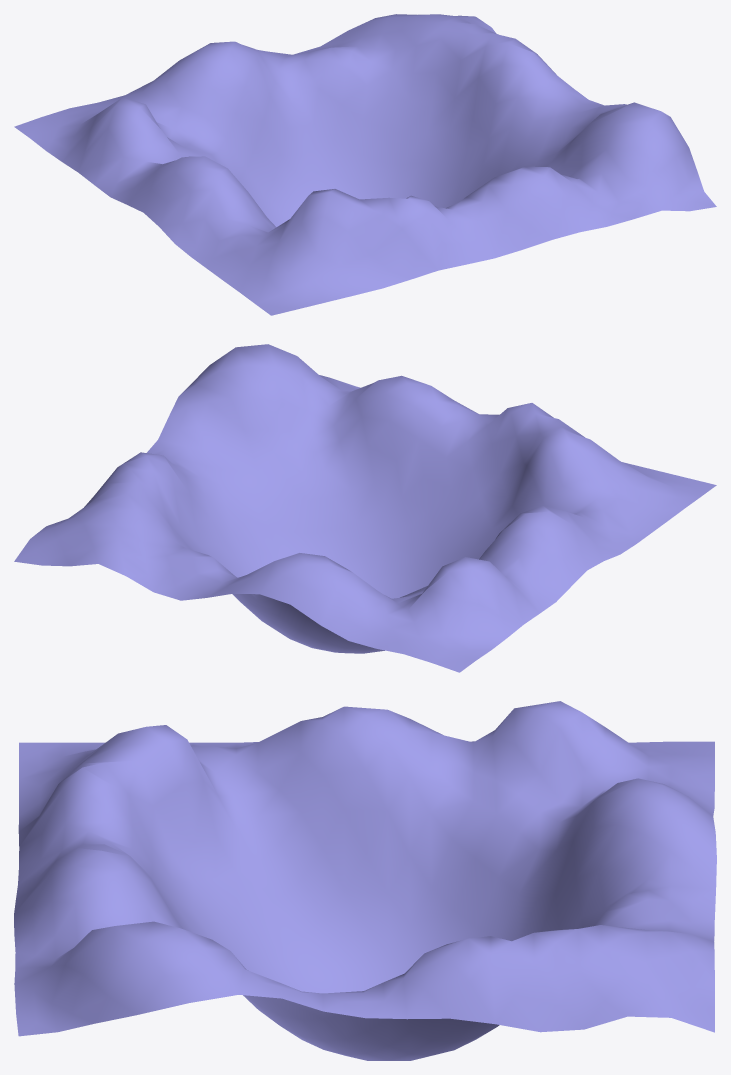
The model's file is WeirdPlane.glb.
3 views of the same model, one above another, from view 1: azimuth 30°, elevation 25°; view 2: azimuth 150°, elevation 25°; view 3: azimuth 270°, elevation 25° (orthographic). The views are drawn at different scales.
Parts seen in each view (by area): view 1: Plane; view 2: Plane; view 3: Plane.
Part boxes in pixels (x1=…): Plane: x1=14, y1=14, x2=716, y2=315; Plane: x1=14, y1=344, x2=716, y2=672; Plane: x1=14, y1=701, x2=716, y2=1060.
Size of the model in its own units: 35.06 by 12.87 by 34.05.
